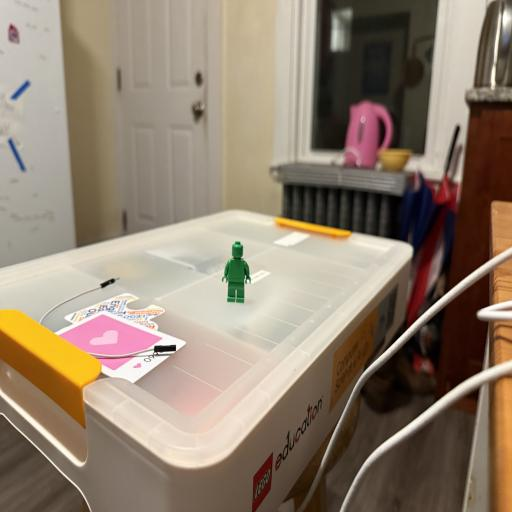Minifig: (222, 241, 251, 303)
